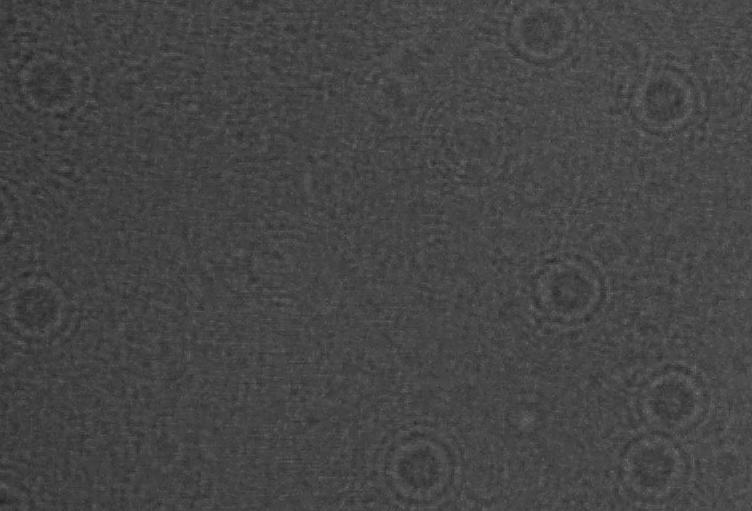bead: (365, 420, 474, 509), (512, 248, 618, 336), (614, 360, 720, 442), (616, 57, 711, 143), (603, 431, 702, 511), (0, 263, 80, 360), (4, 41, 98, 123), (488, 0, 592, 73), (0, 168, 33, 261), (0, 458, 51, 511)
